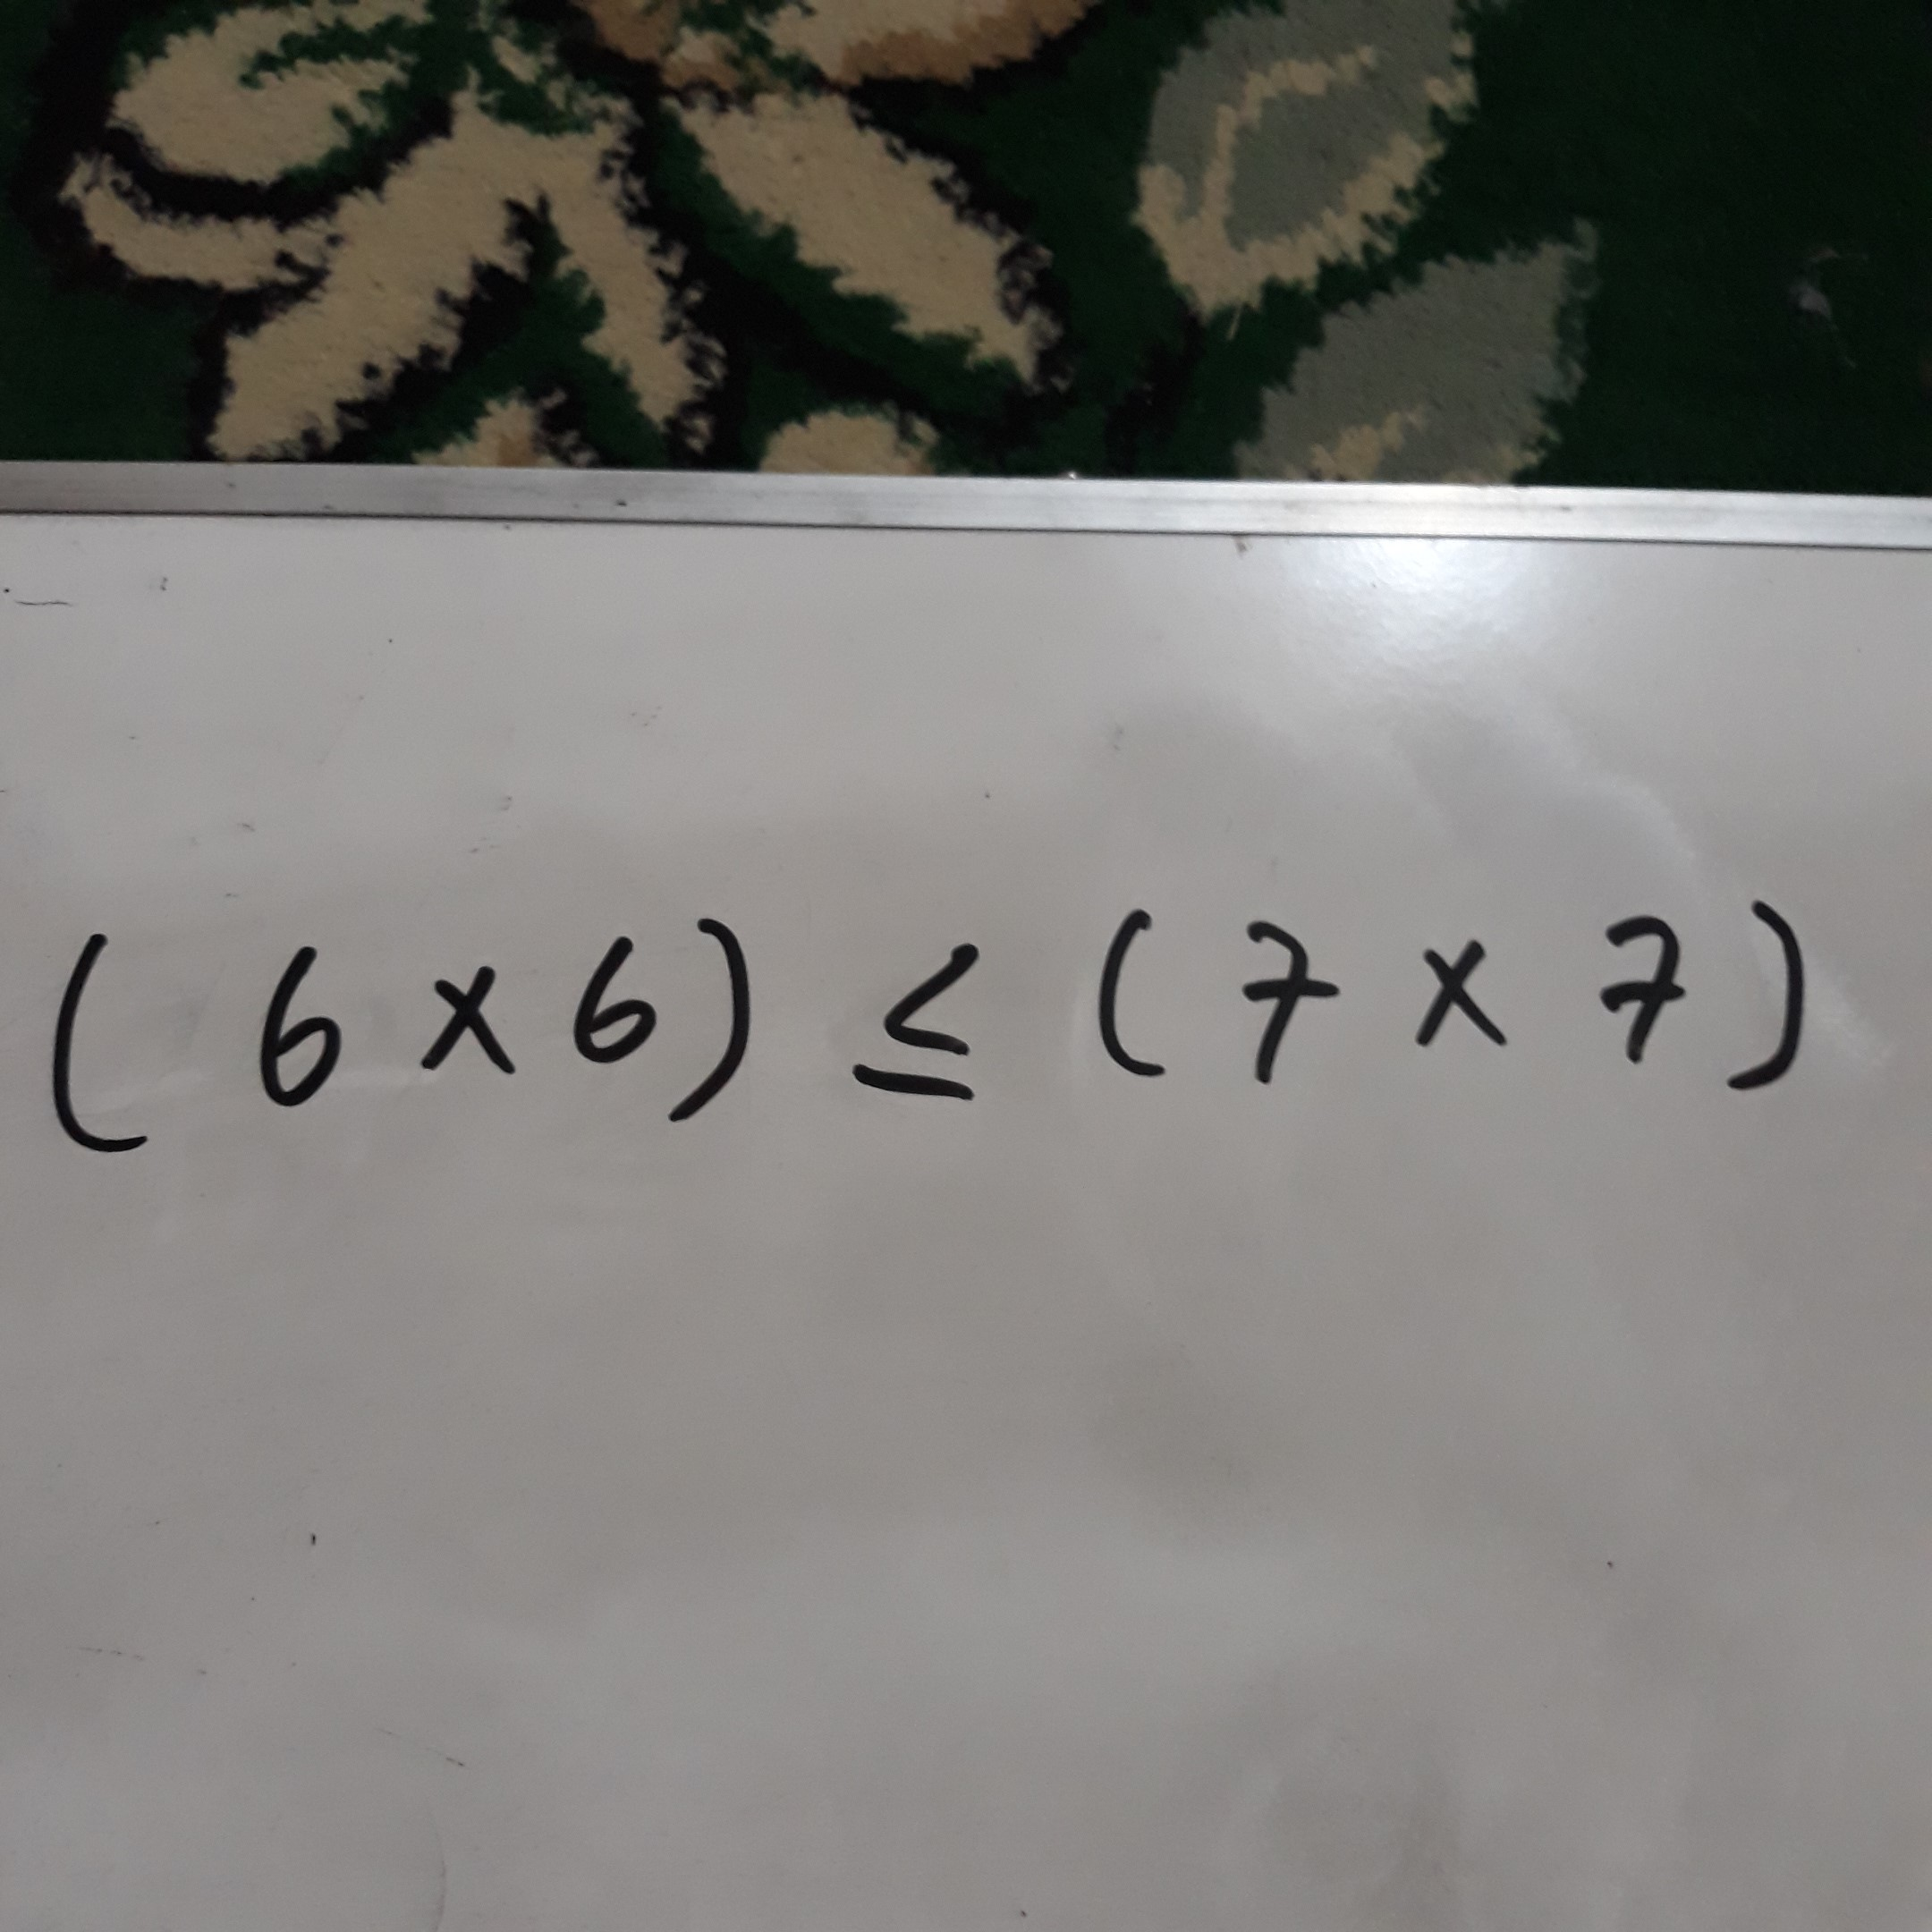closebracket: (657, 880, 787, 1158), (1710, 871, 1825, 1102)
lessthan-equal: (840, 911, 1001, 1123)
multi: (396, 944, 530, 1089), (1395, 921, 1515, 1065)
num6: (221, 925, 360, 1126), (544, 923, 675, 1085)
num7: (1580, 885, 1699, 1091), (1218, 909, 1348, 1098)
openbracket: (27, 911, 172, 1186), (1067, 876, 1187, 1108)
